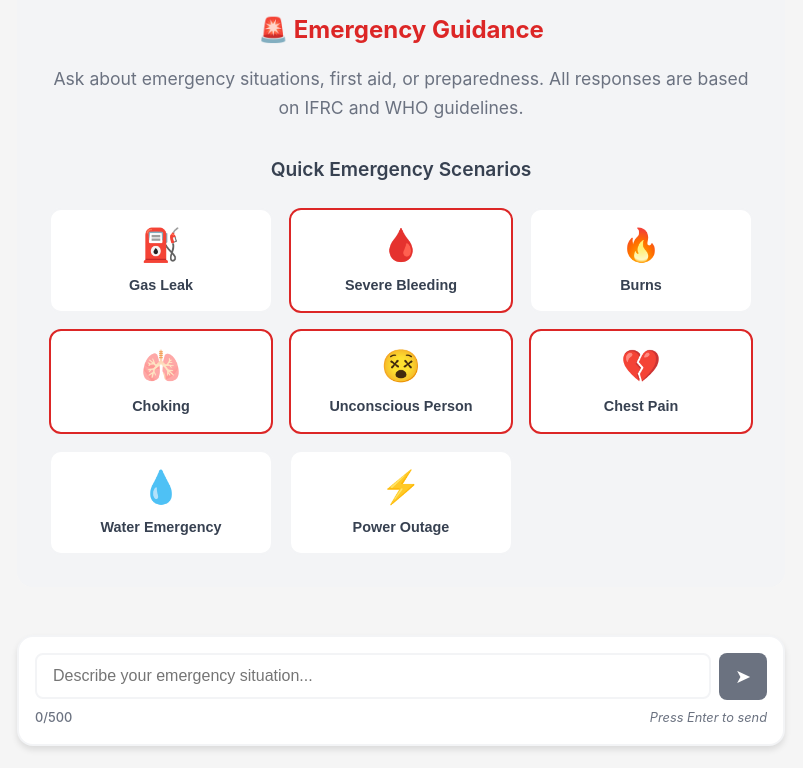
Test: ChatInterface Component › shows character count
Step 1. Type "test" into the field with placeholder "Describe your emergency situation..." → coordinates (373, 676), box [35,653,711,699]
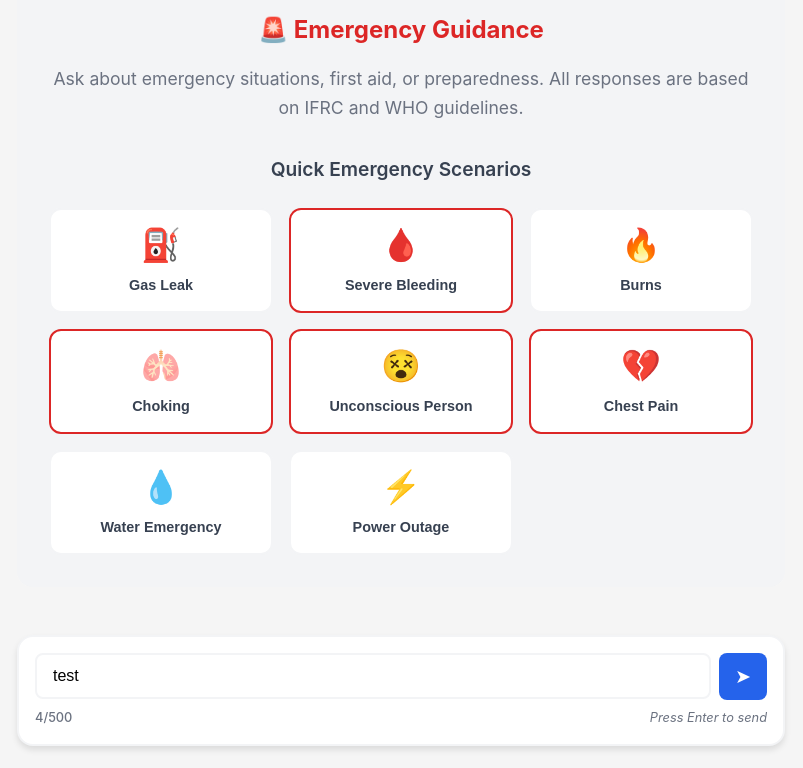
Now the text "4/500" is shown, box [35,708,72,728]
